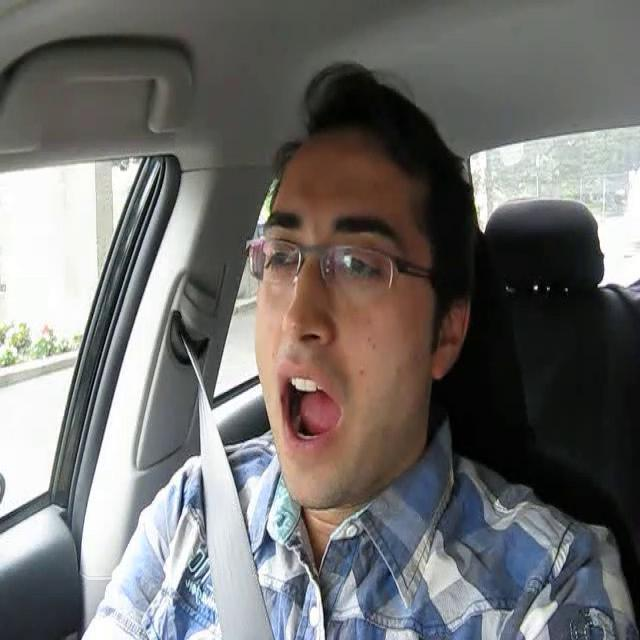open: (328, 205, 410, 313), (258, 207, 308, 300)
